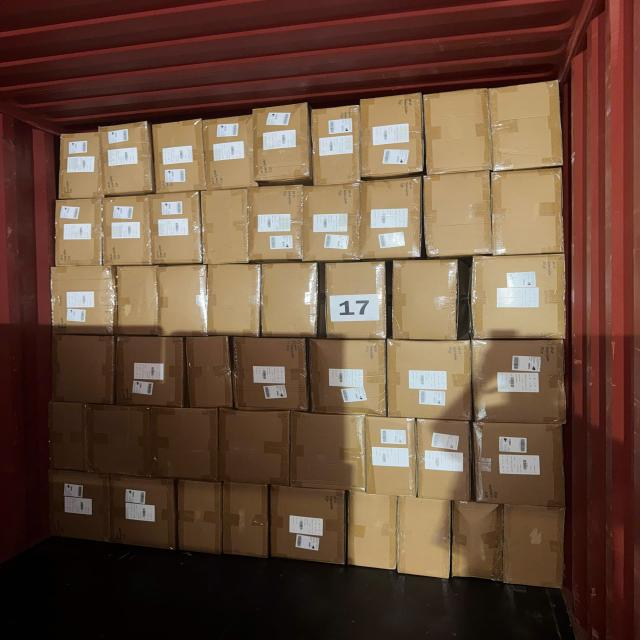Carton: (468, 253, 566, 339), (471, 336, 568, 422), (471, 421, 564, 505), (388, 337, 475, 419), (490, 167, 564, 255), (490, 83, 562, 172), (310, 340, 390, 418), (421, 173, 491, 261), (270, 485, 346, 566), (292, 410, 368, 490), (234, 334, 311, 410), (426, 90, 493, 176), (391, 260, 461, 342), (220, 406, 292, 485), (504, 507, 568, 593), (358, 97, 422, 182), (322, 261, 387, 340), (114, 334, 184, 407), (149, 408, 218, 482), (361, 178, 422, 260), (112, 478, 178, 552), (88, 405, 151, 480), (50, 266, 116, 337), (398, 494, 452, 580), (251, 182, 309, 261), (50, 471, 111, 546), (417, 417, 472, 500), (54, 333, 116, 406), (256, 106, 314, 184), (260, 263, 318, 340), (364, 415, 416, 498), (309, 181, 362, 261), (346, 492, 397, 574), (454, 500, 505, 581), (206, 264, 259, 340), (204, 118, 256, 192), (153, 124, 205, 198), (313, 104, 361, 184), (105, 125, 156, 200), (201, 186, 249, 263), (221, 482, 268, 560), (160, 265, 209, 339), (177, 482, 224, 559), (151, 191, 201, 263), (104, 194, 153, 264), (187, 333, 233, 406), (56, 199, 104, 267), (116, 264, 159, 338), (60, 135, 104, 202), (48, 399, 88, 470)
